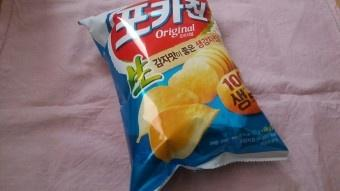snack: (77, 0, 290, 191)
